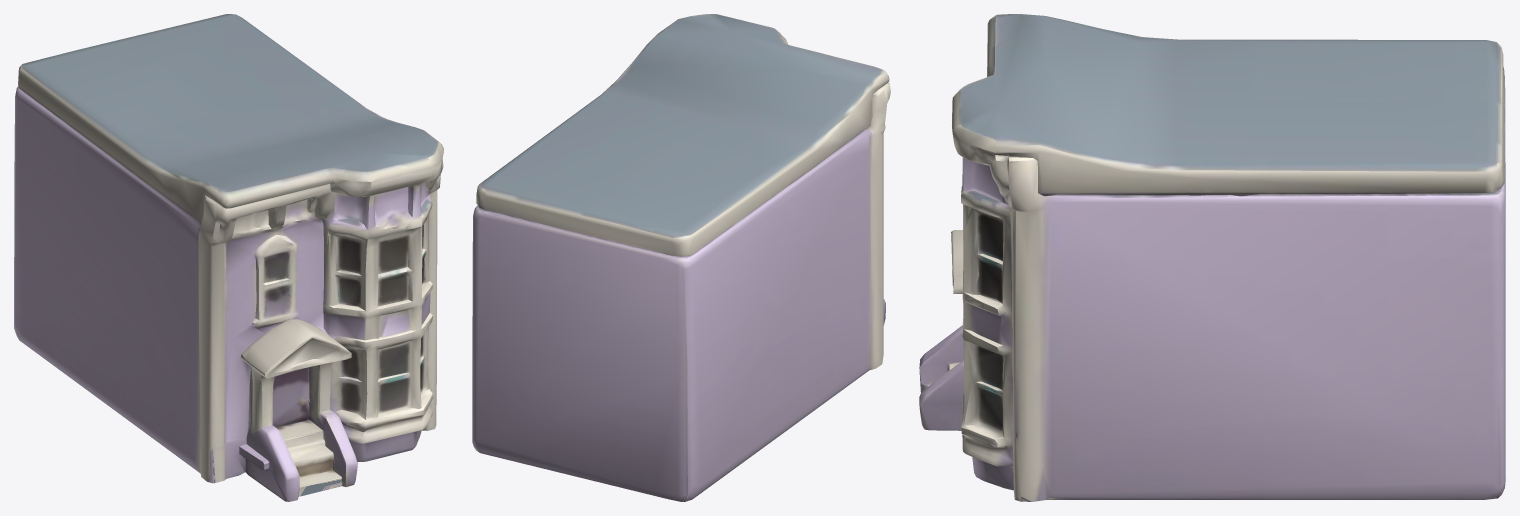
File: stick-victorian.glb
The picture shows the model from 3 angles, left to right: view 1: azimuth 30°, elevation 25°; view 2: azimuth 150°, elevation 25°; view 3: azimuth 270°, elevation 25°; orthographic projection. The views are drawn at different scales.
Parts seen in each view (by area): view 1: stick-victorian; view 2: stick-victorian; view 3: stick-victorian.
Boxes of the visible parts, x1,y1,x2,y2 form: stick-victorian: [14, 14, 443, 501]; stick-victorian: [472, 14, 890, 501]; stick-victorian: [919, 14, 1505, 501].
Bounding box in the file's own units: 4.4 × 5.4 × 8.
1 material, 1 textured.
